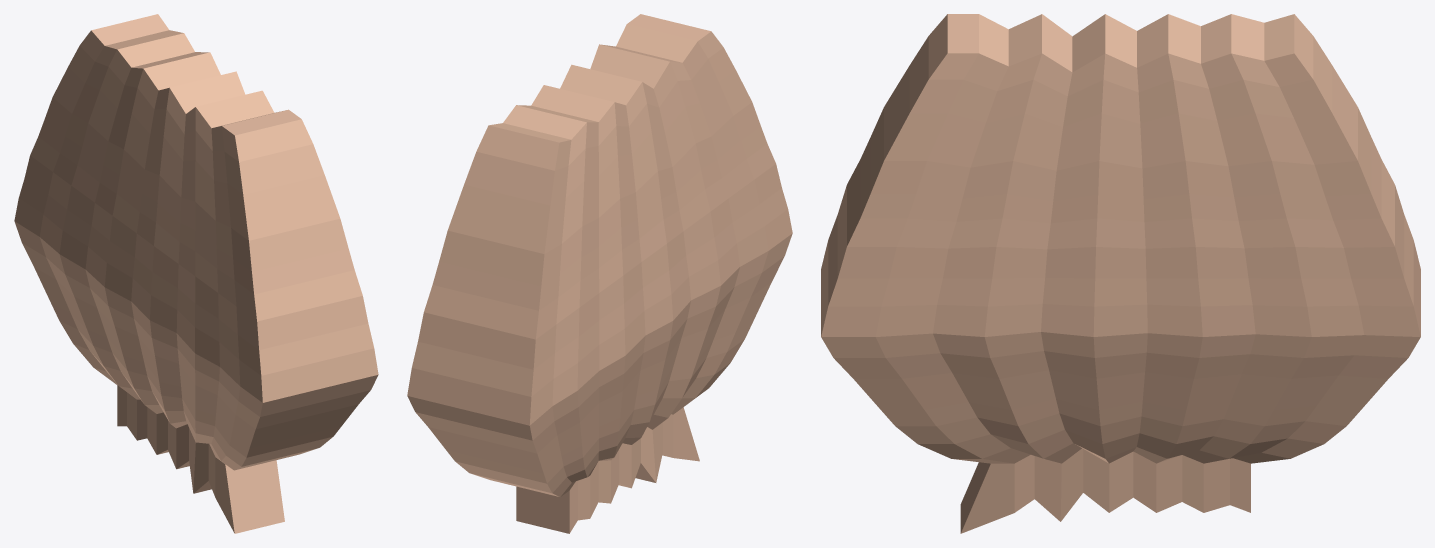
Rendered from Seashell1.fbx.
The picture shows the model from 3 angles, left to right: view 1: azimuth 30°, elevation 25°; view 2: azimuth 150°, elevation 25°; view 3: azimuth 270°, elevation 25°; orthographic projection. The views are drawn at different scales.
Parts seen in each view (by area): view 1: Cube; view 2: Cube; view 3: Cube.
Part boxes in pixels (x1=…): Cube: x1=14, y1=14, x2=378, y2=533; Cube: x1=407, y1=14, x2=792, y2=533; Cube: x1=821, y1=14, x2=1420, y2=533.
Bounding box in the file's own units: 36.02 × 120 × 134.
